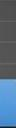bar: (0, 76, 16, 84)
